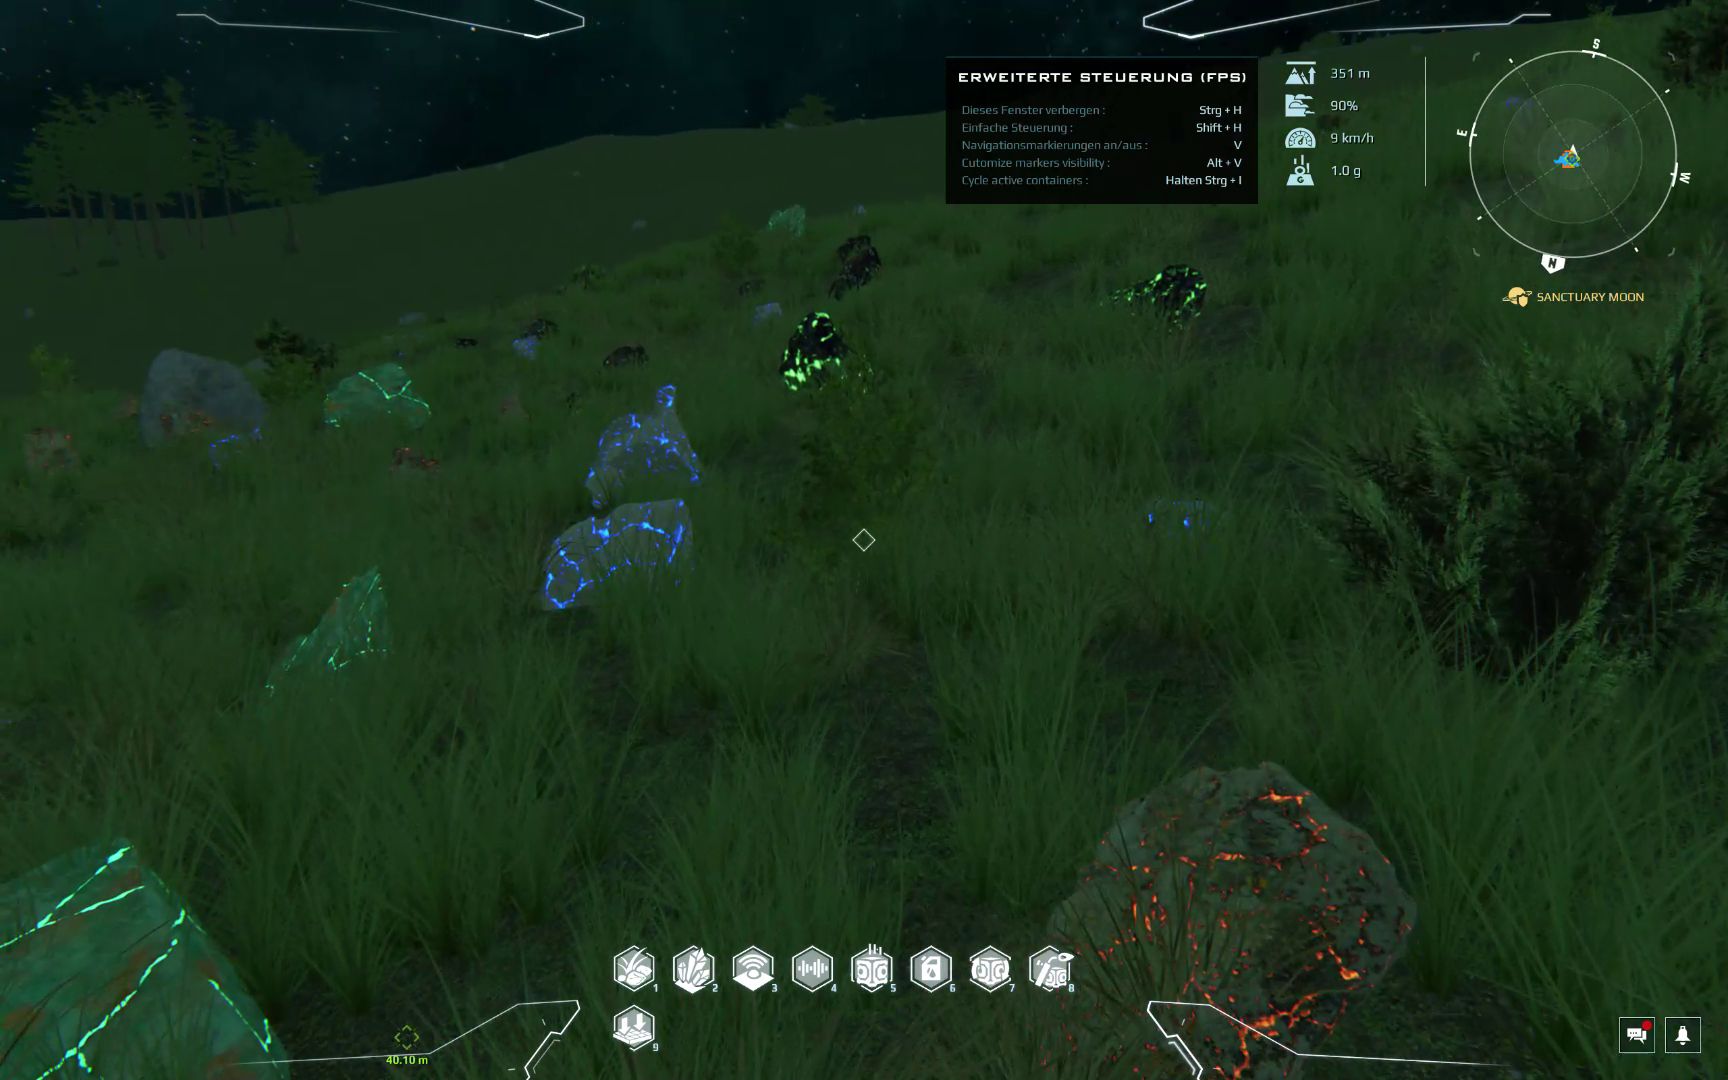Ore: (1011, 753, 1424, 1080), (1, 830, 294, 1078), (250, 562, 407, 694), (527, 498, 702, 613), (577, 382, 712, 501), (771, 306, 885, 399), (316, 360, 433, 439), (1096, 261, 1210, 335), (1135, 484, 1244, 544), (822, 231, 891, 299), (12, 422, 83, 482), (383, 440, 447, 482), (485, 387, 536, 431), (598, 337, 656, 372), (162, 408, 223, 439), (205, 426, 265, 455), (765, 204, 810, 239), (511, 314, 562, 343), (111, 396, 142, 424), (509, 337, 547, 360), (447, 333, 481, 356), (735, 275, 768, 299)
